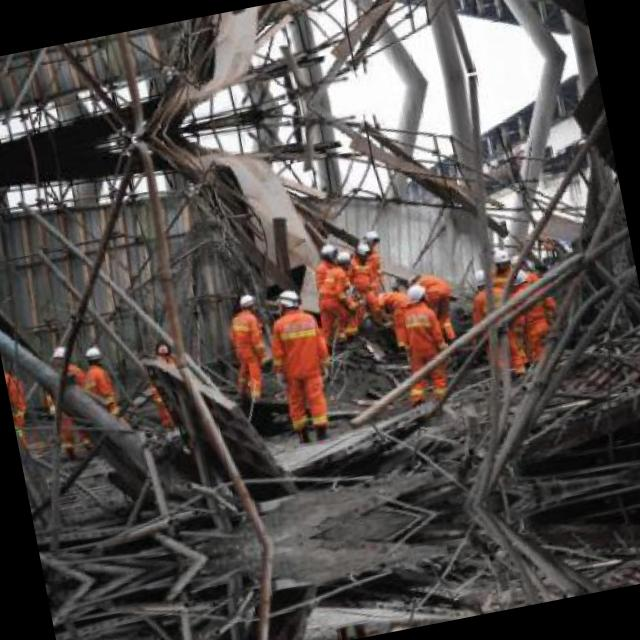helmet: (274, 283, 302, 316), (469, 260, 493, 294), (491, 240, 514, 274), (48, 338, 72, 368), (406, 281, 431, 308), (358, 222, 382, 248), (316, 238, 338, 266), (82, 342, 105, 368), (236, 288, 256, 315), (333, 246, 353, 272)
